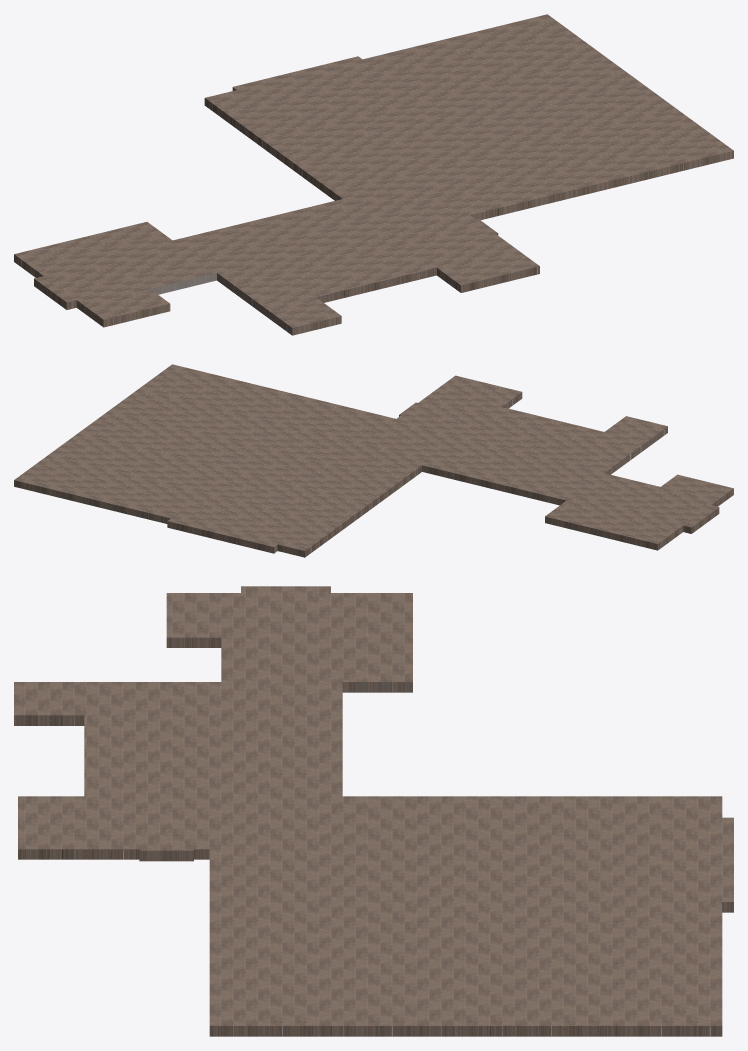
Rendered from 1860_kitchen_Floor_Valor.gltf.
The picture shows the model from 3 angles, top to bottom: view 1: azimuth 30°, elevation 25°; view 2: azimuth 150°, elevation 25°; view 3: azimuth 270°, elevation 25°; orthographic projection. The views are drawn at different scales.
Visible parts, largest first — view 1: Line23781; view 2: Line23781; view 3: Line23781.
Part boxes in pixels (x1,y1,x2,y2): Line23781: (14,14,733,335); Line23781: (14,364,733,557); Line23781: (14,586,733,1036).
Bounding box in the file's own units: 26.6 × 0.3 × 18.4.
